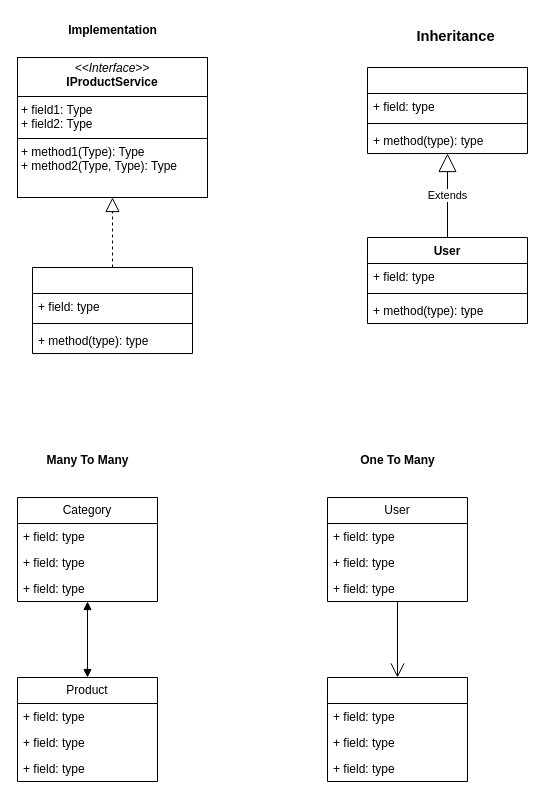
The diagram is 545 pixels wide and 801 high, and some of its shapes have lost their labels. Here are the shapes that lost their labels. From the top down, the box of each, then its label:
(366, 66, 528, 154): BaseEntity
(32, 266, 192, 354): ProductService
(326, 676, 468, 782): Address
